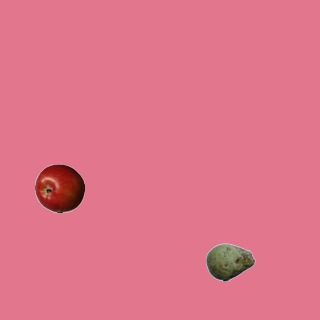Apple Braeburn: (34, 163, 84, 213)
Pear Stone: (205, 237, 255, 287)
